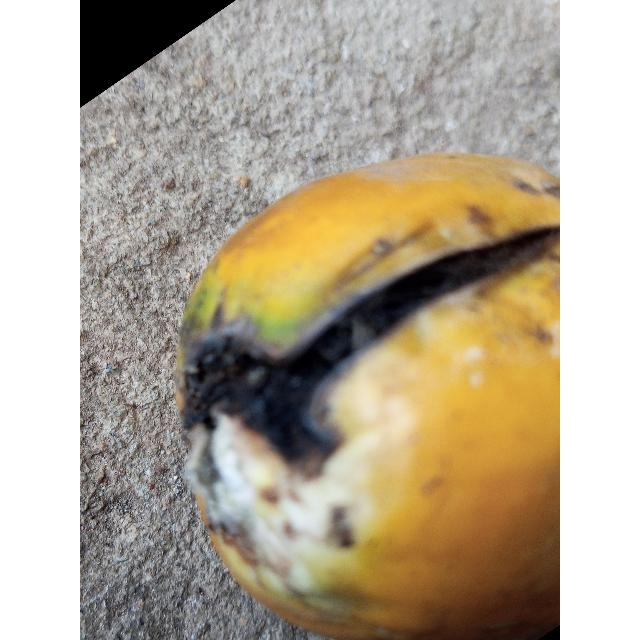damaged: (176, 154, 560, 640)
